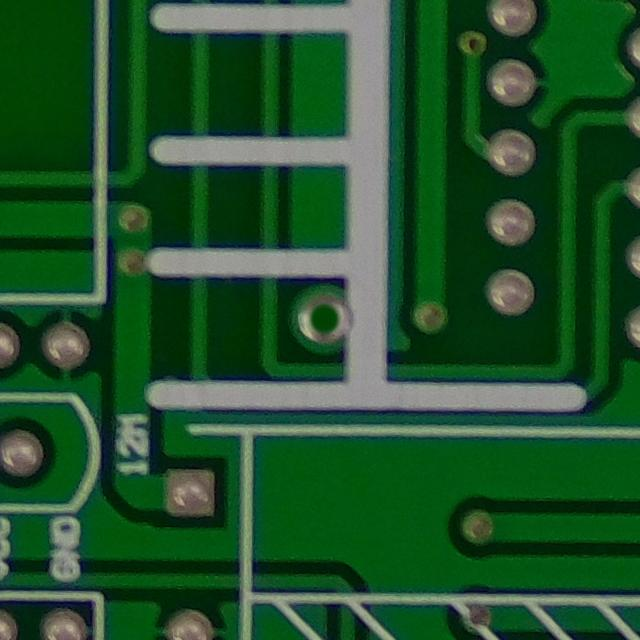missing_hole: (290, 283, 357, 357)
